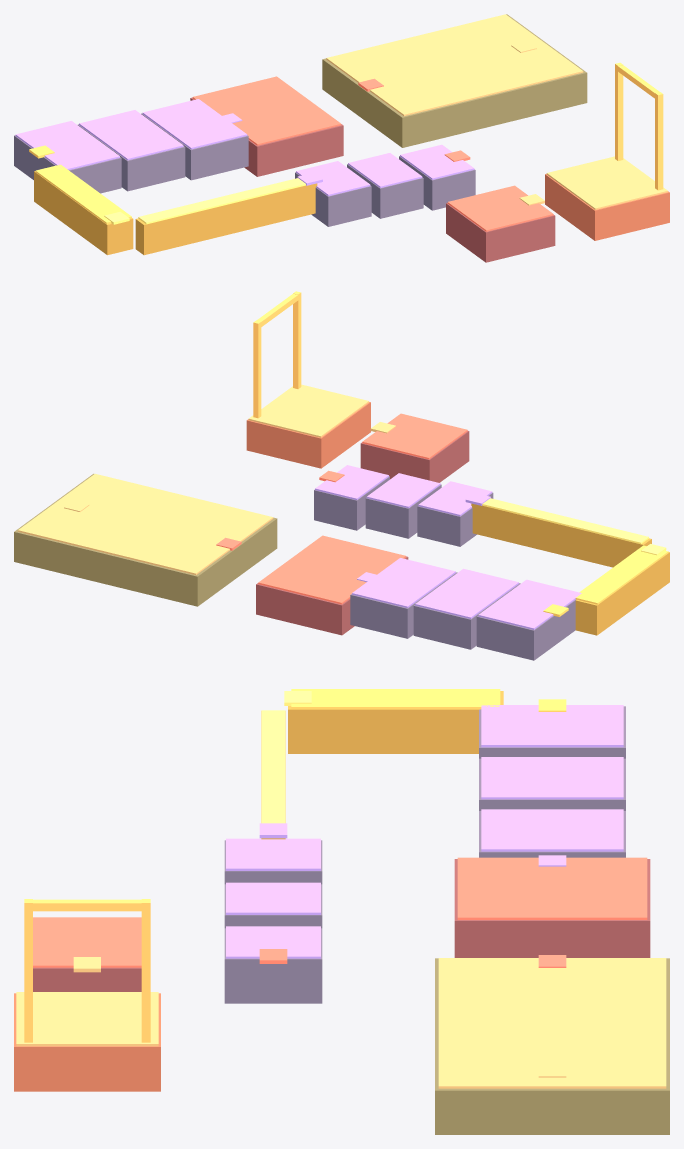
The model's file is kz-switchback.glb.
3 renders of one model, top to bottom at view 1: azimuth 30°, elevation 25°; view 2: azimuth 150°, elevation 25°; view 3: azimuth 270°, elevation 25°, orthographic. The views are drawn at different scales.
Parts seen in each view (by area): view 1: ArenaV2TopCap:ks-s01-start, ArenaV2Surface:ks-s01-start, ArenaV2Surface:ks-s05-west-wire, ArenaV2TopCap:ks-s02-landing, ArenaV2Surface:ks-s08-finish, ArenaV2TopCap:ks-s08-finish, ArenaV2Surface:ks-s07-north-landing, ArenaV2Surface:ks-s04-north-narrow, ArenaV2Surface:ks-s02-landing, ArenaV2TopCap:ks-s03-stair-a, ArenaV2TopCap:ks-s03-stair-b, ArenaV2TopCap:ks-s03-stair-c (+15 smaller); view 2: ArenaV2TopCap:ks-s01-start, ArenaV2Surface:ks-s01-start, ArenaV2TopCap:ks-s02-landing, ArenaV2Surface:ks-s05-west-wire, ArenaV2Surface:ks-s08-finish, ArenaV2TopCap:ks-s08-finish, ArenaV2Surface:ks-s03-stair-c, ArenaV2Surface:ks-s02-landing, ArenaV2Surface:ks-s04-north-narrow, ArenaV2Surface:ks-s07-north-landing, ArenaV2TopCap:ks-s03-stair-b, ArenaV2TopCap:ks-s03-stair-a (+14 smaller); view 3: ArenaV2TopCap:ks-s01-start, ArenaV2Surface:ks-s01-start, ArenaV2TopCap:ks-s02-landing, ArenaV2Surface:ks-s04-north-narrow, ArenaV2Surface:ks-s02-landing, ArenaV2Surface:ks-s08-finish, ArenaV2TopCap:ks-s08-finish, ArenaV2TopCap:ks-s03-stair-a, ArenaV2TopCap:ks-s03-stair-b, ArenaV2TopCap:ks-s03-stair-c, ArenaV2TopCap:ks-s07-north-landing, ArenaV2Surface:ks-s06-stair-c (+14 smaller).
Boxes of the visible parts, box(x1,y1,x2,y2) form: ArenaV2TopCap:ks-s01-start: box(326, 14, 583, 116); ArenaV2Surface:ks-s01-start: box(322, 14, 587, 147); ArenaV2Surface:ks-s05-west-wire: box(135, 183, 317, 255); ArenaV2TopCap:ks-s02-landing: box(192, 76, 341, 145); ArenaV2Surface:ks-s08-finish: box(545, 174, 669, 240); ArenaV2TopCap:ks-s08-finish: box(546, 156, 667, 209); ArenaV2Surface:ks-s07-north-landing: box(446, 203, 555, 262); ArenaV2Surface:ks-s04-north-narrow: box(34, 171, 133, 255); ArenaV2Surface:ks-s02-landing: box(190, 97, 343, 176); ArenaV2TopCap:ks-s03-stair-a: box(142, 99, 247, 149); ArenaV2TopCap:ks-s03-stair-b: box(79, 110, 183, 160); ArenaV2TopCap:ks-s03-stair-c: box(15, 121, 119, 169); ArenaV2TopCap:ks-s01-start: box(18, 473, 273, 574); ArenaV2Surface:ks-s01-start: box(14, 473, 277, 606); ArenaV2TopCap:ks-s02-landing: box(258, 535, 405, 604); ArenaV2Surface:ks-s05-west-wire: box(471, 503, 651, 567); ArenaV2Surface:ks-s08-finish: box(246, 402, 370, 468); ArenaV2TopCap:ks-s08-finish: box(248, 384, 368, 437); ArenaV2Surface:ks-s03-stair-c: box(476, 599, 576, 660); ArenaV2Surface:ks-s02-landing: box(256, 556, 408, 635); ArenaV2Surface:ks-s04-north-narrow: box(575, 552, 669, 635); ArenaV2Surface:ks-s07-north-landing: box(360, 431, 469, 482); ArenaV2TopCap:ks-s03-stair-b: box(415, 568, 518, 618); ArenaV2TopCap:ks-s03-stair-a: box(352, 558, 455, 607); ArenaV2TopCap:ks-s01-start: box(438, 958, 666, 1088); ArenaV2Surface:ks-s01-start: box(435, 958, 669, 1134); ArenaV2TopCap:ks-s02-landing: box(457, 857, 647, 919); ArenaV2Surface:ks-s04-north-narrow: box(288, 691, 503, 753); ArenaV2Surface:ks-s02-landing: box(454, 859, 650, 957); ArenaV2Surface:ks-s08-finish: box(14, 993, 160, 1091); ArenaV2TopCap:ks-s08-finish: box(16, 992, 158, 1046); ArenaV2TopCap:ks-s03-stair-a: box(481, 809, 623, 851); ArenaV2TopCap:ks-s03-stair-b: box(481, 757, 623, 799); ArenaV2TopCap:ks-s03-stair-c: box(481, 705, 623, 747); ArenaV2TopCap:ks-s07-north-landing: box(33, 917, 141, 967); ArenaV2Surface:ks-s06-stair-c: box(224, 928, 322, 1003).
Bounding box in the file's own units: 18.35 × 4.2 × 13.4.
